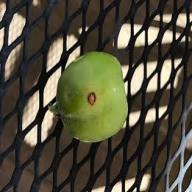apple: (58, 57, 130, 140)
